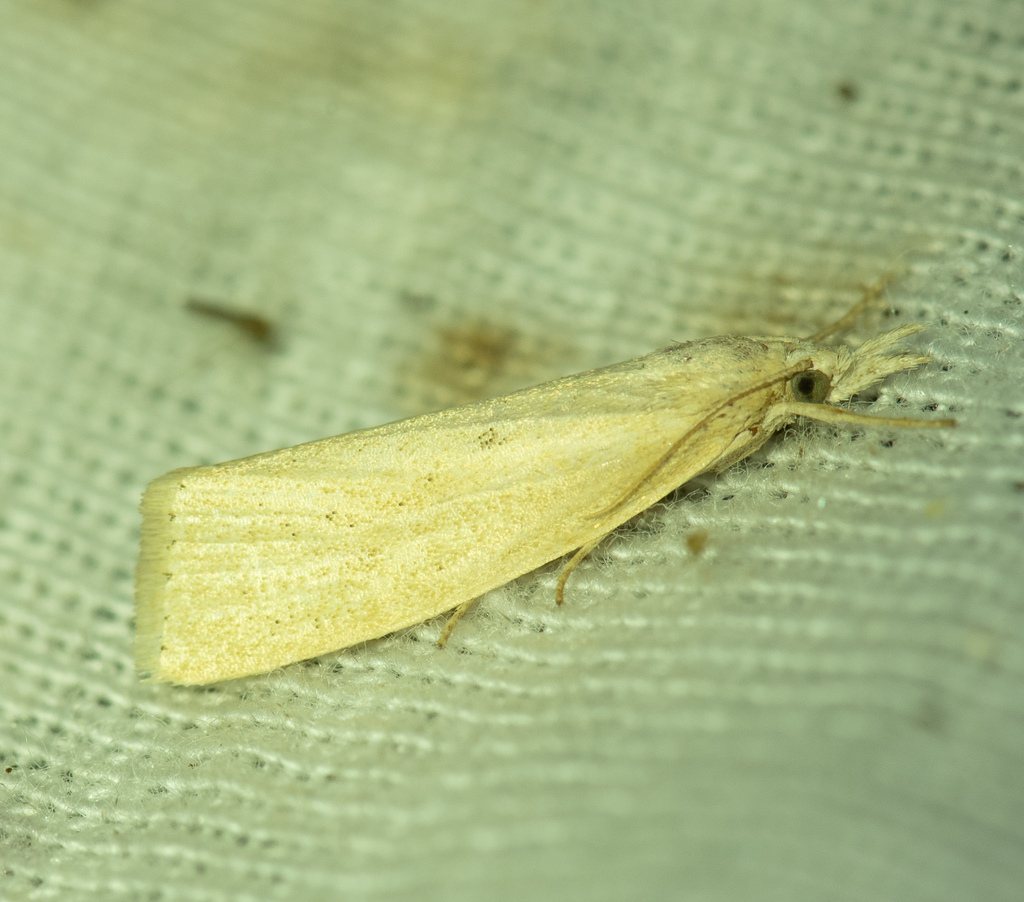Crambidae: (128, 282, 955, 699)
